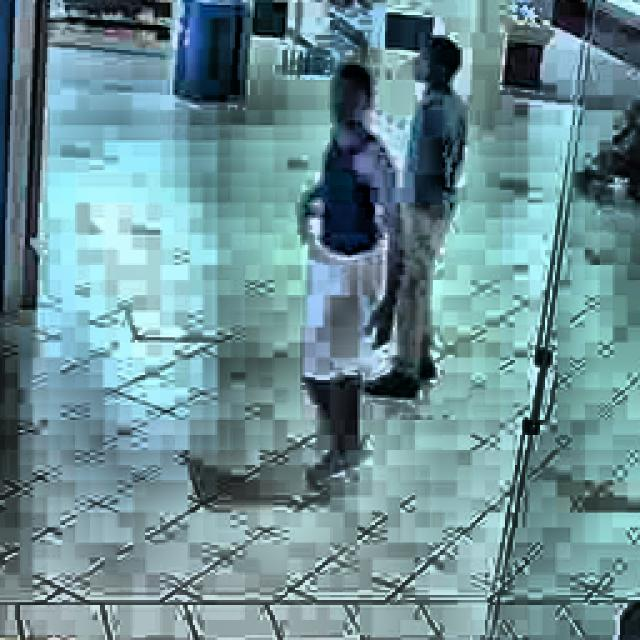Human: (291, 41, 395, 493), (394, 26, 461, 440)
